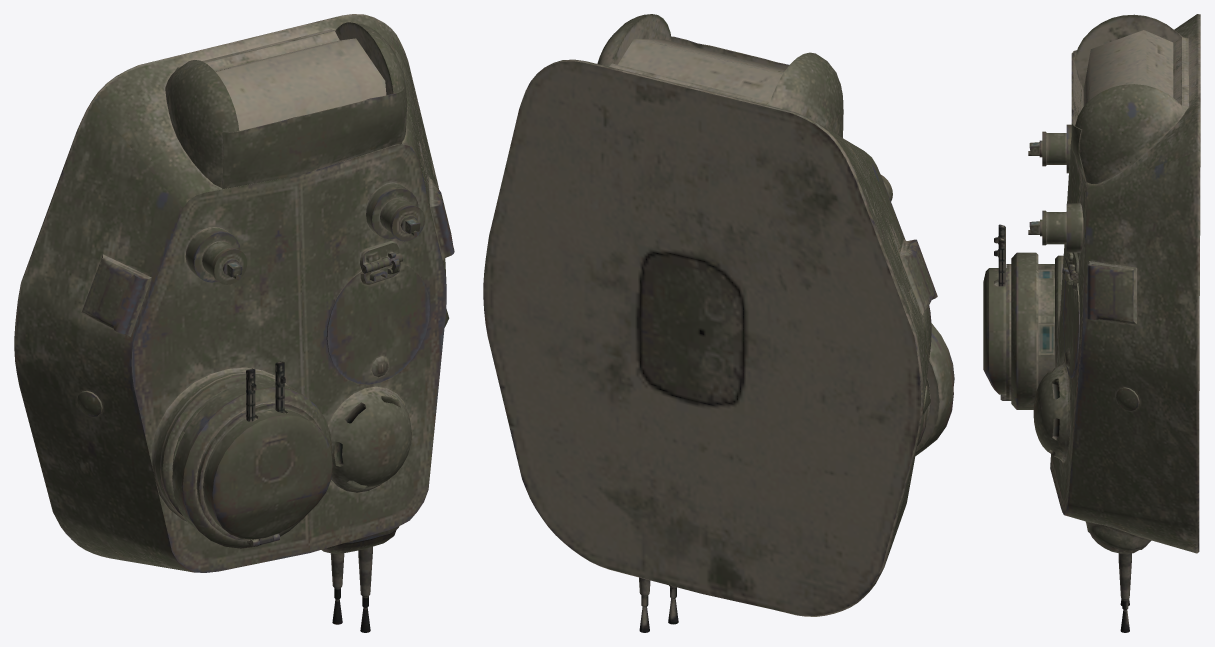
Rendered from Turret_02.glb.
The picture shows the model from 3 angles, left to right: view 1: azimuth 30°, elevation 25°; view 2: azimuth 150°, elevation 25°; view 3: azimuth 270°, elevation 25°; orthographic projection. The views are drawn at different scales.
Parts seen in each view (by area): view 1: set_0_group_0; view 2: set_0_group_0; view 3: set_0_group_0.
Boxes of the visible parts, x1,y1,x2,y2 form: set_0_group_0: (14, 14, 454, 632); set_0_group_0: (483, 14, 954, 632); set_0_group_0: (983, 14, 1200, 632).
Size of the model in its own units: 1.99 by 2.66 by 0.957.
Materials: 1 (1 with a texture image).
